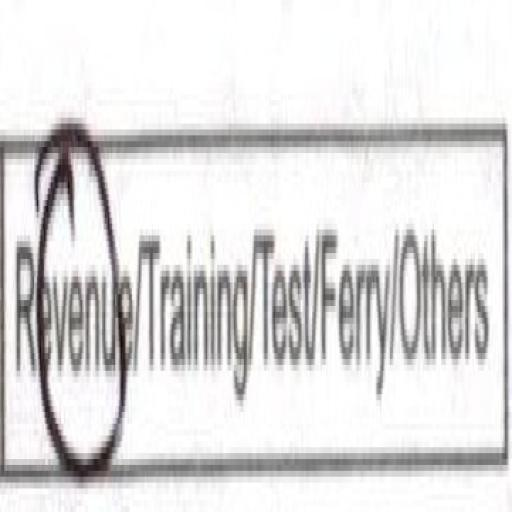check: (0, 94, 136, 500)
